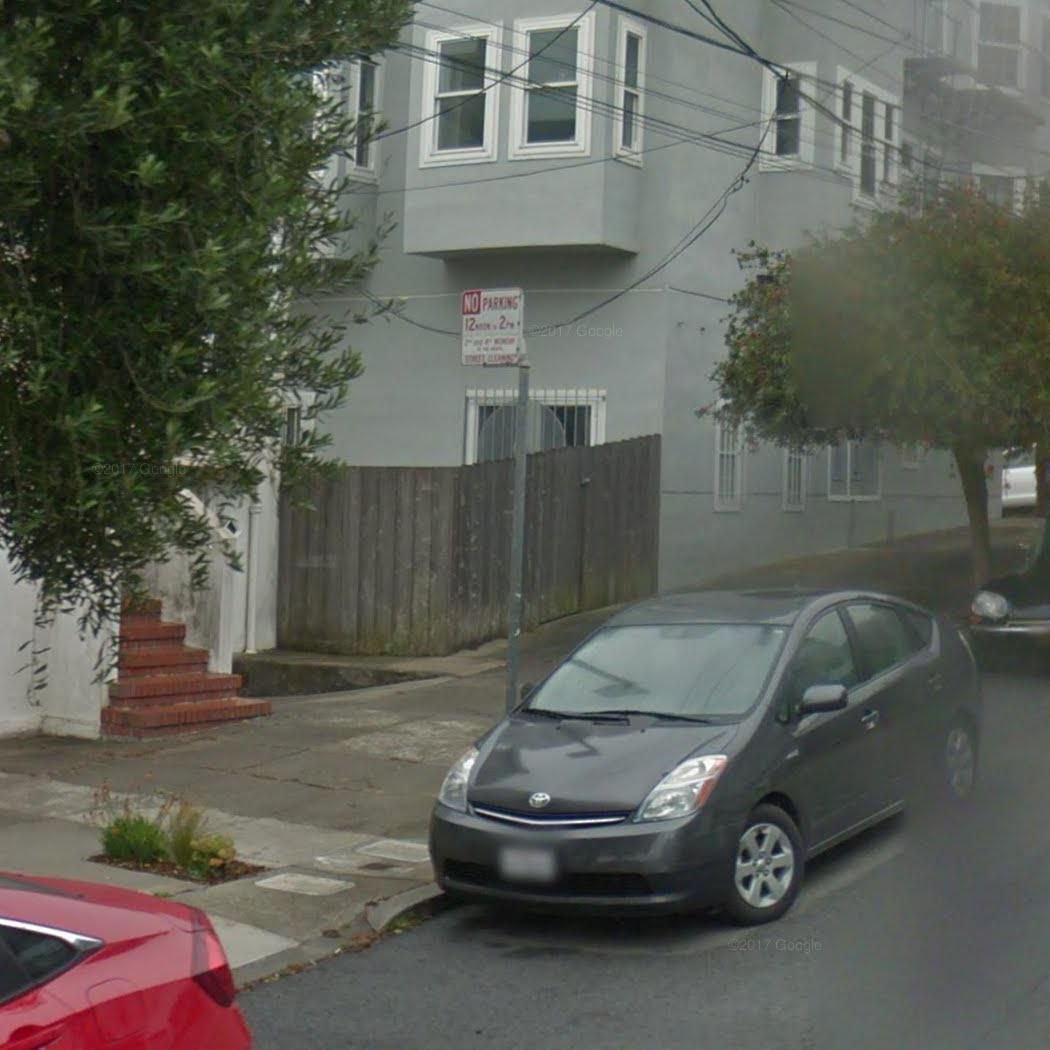No Parking: (458, 287, 527, 366)
